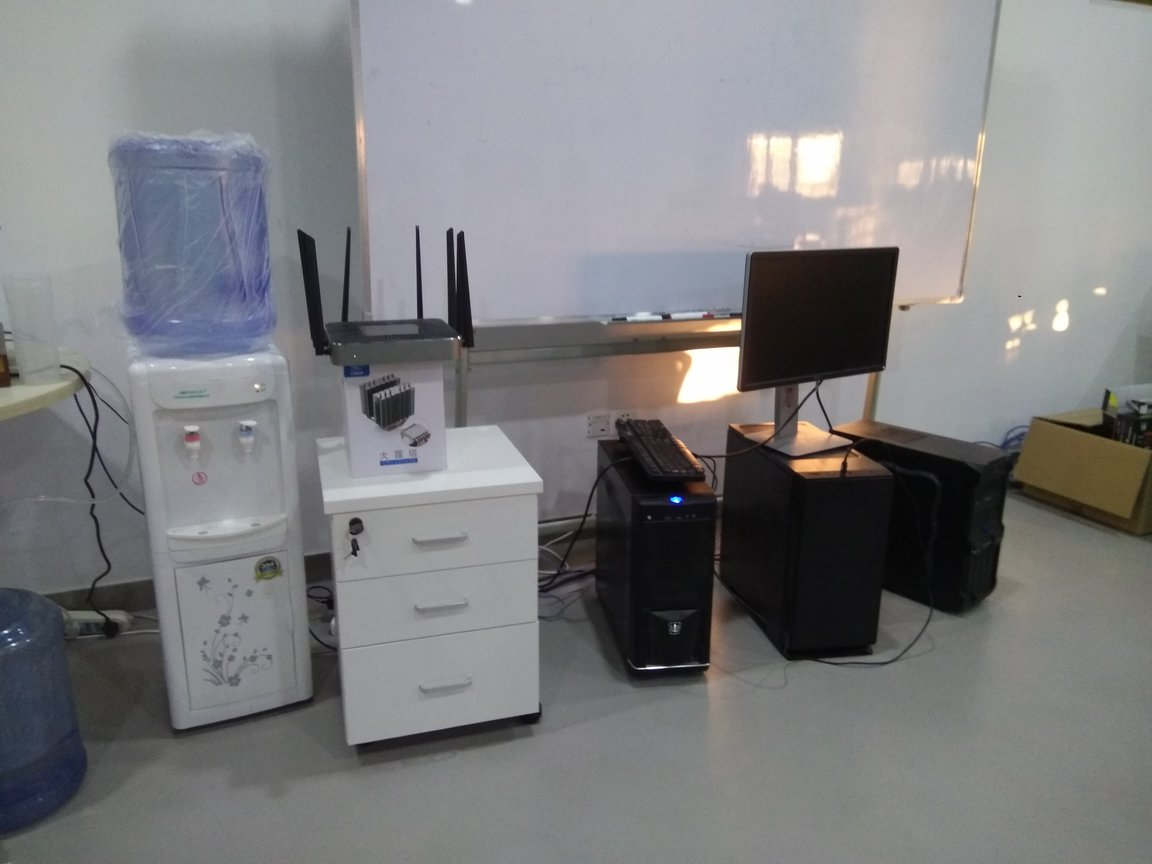computer: (723, 418, 904, 664), (839, 409, 1010, 622), (596, 439, 717, 686)
drawer chest: (315, 423, 559, 745)
monitor: (736, 239, 901, 461)
scuttlebutt: (111, 127, 310, 360), (1, 580, 96, 844)
water dispenser: (125, 349, 313, 726)
